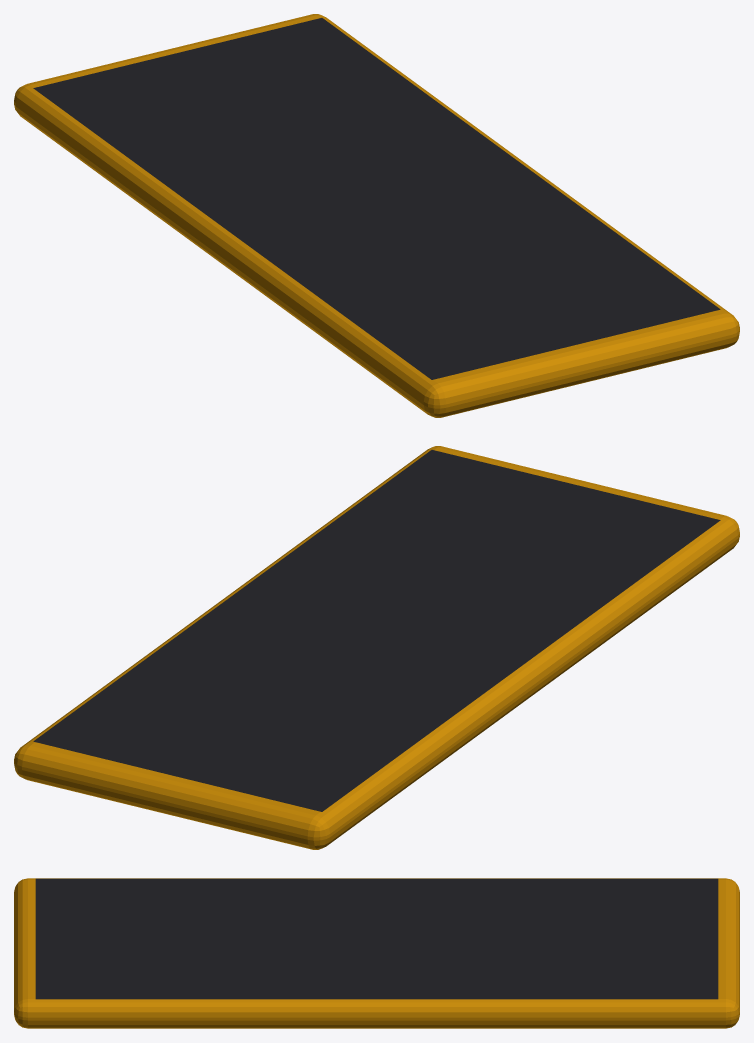
The model's file is Phone_891.glb.
3 views of the same model, one above another, from view 1: azimuth 30°, elevation 25°; view 2: azimuth 150°, elevation 25°; view 3: azimuth 270°, elevation 25° (orthographic). The views are drawn at different scales.
Parts seen in each view (by area): view 1: Phone_Screen, Phone_Body; view 2: Phone_Screen, Phone_Body; view 3: Phone_Screen, Phone_Body.
Boxes of the visible parts, bbox=[...] form: Phone_Screen: bbox=[33, 18, 720, 379]; Phone_Body: bbox=[14, 14, 739, 417]; Phone_Screen: bbox=[33, 450, 720, 811]; Phone_Body: bbox=[14, 446, 739, 849]; Phone_Screen: bbox=[35, 878, 718, 999]; Phone_Body: bbox=[14, 878, 739, 1028].
Size of the model in its own units: 0.0703 by 0.0072 by 0.1644.
